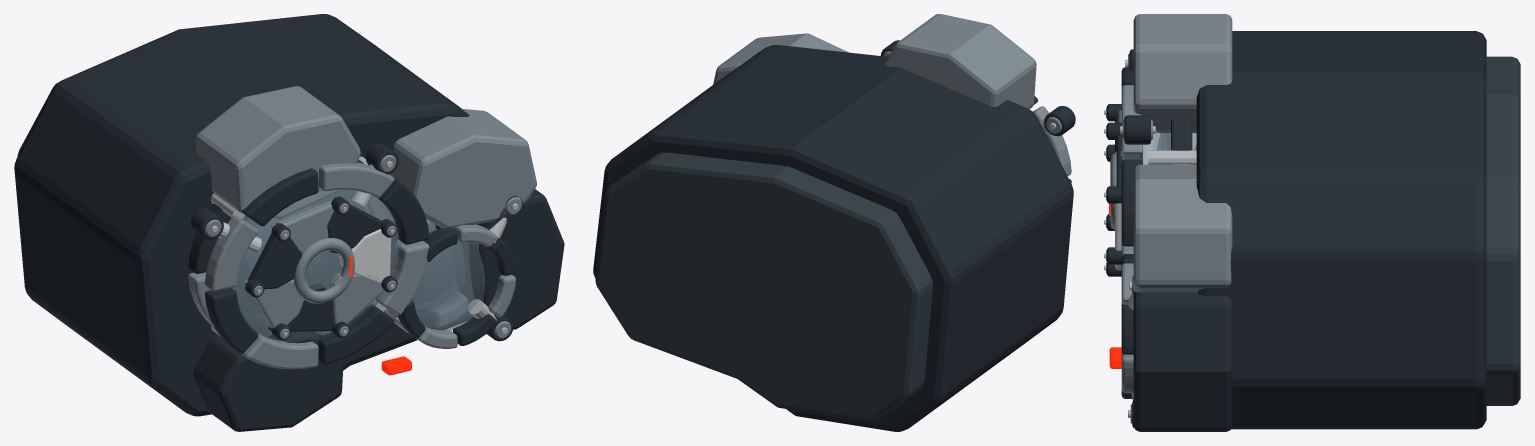
File: orbit-experience-ultra.glb
3 views of the same model, side by side, from view 1: azimuth 30°, elevation 25°; view 2: azimuth 150°, elevation 25°; view 3: azimuth 270°, elevation 25° (orthographic). The views are drawn at different scales.
Visible parts, largest first — view 1: Experience_DeepOpticalBody, Experience_HoodVane_PRIMARY_TOP, Experience_HoodVane_SECONDARY_TOP, Experience_HoodVane_PRIMARY_BOTTOM, Experience_HoodVane_SECONDARY_OUTER, Experience_OpticalVolume, Experience_SECONDARY_OpticalVolume_0, Experience_PRIMARY_FrameSector_0_03, Experience_PRIMARY_FrameSector_0_06, Experience_PRIMARY_FrameSector_0_07, Experience_PRIMARY_FrameSector_0_02, Experience_PRIMARY_FrameSector_0_04 (+24 smaller); view 2: Experience_DeepOpticalBody, Experience_RearOpticalBody, Experience_HoodVane_PRIMARY_TOP, Experience_HoodVane_SECONDARY_TOP, Experience_PRIMARY_FrameSector_0_03, Experience_ActuatorPivot_00; view 3: Experience_DeepOpticalBody, Experience_HoodVane_SECONDARY_OUTER, Experience_RearOpticalBody, Experience_HoodVane_SECONDARY_TOP, Experience_HoodVane_PRIMARY_TOP, Experience_PRIMARY_FrameSector_0_00, Experience_PRIMARY_FrameSector_0_01, Experience_ActuatorPivot_01, Experience_PRIMARY_BarrelRail_0, Experience_PRIMARY_FrameSector_1_01, Experience_SECONDARY_FrameSector_0_00, Experience_SECONDARY_FrameSector_0_07 (+2 smaller).
Part boxes in pixels (<box>): Experience_DeepOpticalBody: <box>14,14,473,416</box>; Experience_HoodVane_PRIMARY_TOP: <box>195,86,360,219</box>; Experience_HoodVane_SECONDARY_TOP: <box>389,109,536,228</box>; Experience_HoodVane_PRIMARY_BOTTOM: <box>193,330,343,431</box>; Experience_HoodVane_SECONDARY_OUTER: <box>453,189,564,329</box>; Experience_OpticalVolume: <box>232,189,402,341</box>; Experience_SECONDARY_OpticalVolume_0: <box>412,240,484,330</box>; Experience_PRIMARY_FrameSector_0_03: <box>205,215,258,291</box>; Experience_PRIMARY_FrameSector_0_06: <box>318,304,394,364</box>; Experience_PRIMARY_FrameSector_0_07: <box>375,241,429,315</box>; Experience_PRIMARY_FrameSector_0_02: <box>241,168,318,226</box>; Experience_PRIMARY_FrameSector_0_04: <box>205,288,258,353</box>; Experience_DeepOpticalBody: <box>593,45,1073,431</box>; Experience_RearOpticalBody: <box>595,152,932,422</box>; Experience_HoodVane_PRIMARY_TOP: <box>884,14,1036,109</box>; Experience_HoodVane_SECONDARY_TOP: <box>713,33,848,84</box>; Experience_PRIMARY_FrameSector_0_03: <box>1033,106,1071,176</box>; Experience_ActuatorPivot_00: <box>1044,106,1075,136</box>; Experience_DeepOpticalBody: <box>1196,31,1486,429</box>; Experience_HoodVane_SECONDARY_OUTER: <box>1133,292,1232,431</box>; Experience_RearOpticalBody: <box>1486,56,1520,405</box>; Experience_HoodVane_SECONDARY_TOP: <box>1133,164,1232,292</box>; Experience_HoodVane_PRIMARY_TOP: <box>1133,14,1232,132</box>; Experience_PRIMARY_FrameSector_0_00: <box>1121,159,1142,246</box>; Experience_PRIMARY_FrameSector_0_01: <box>1121,85,1142,160</box>; Experience_ActuatorPivot_01: <box>1124,115,1150,144</box>; Experience_PRIMARY_BarrelRail_0: <box>1148,150,1196,164</box>; Experience_PRIMARY_FrameSector_1_01: <box>1171,118,1192,150</box>; Experience_SECONDARY_FrameSector_0_00: <box>1121,305,1133,354</box>; Experience_SECONDARY_FrameSector_0_07: <box>1121,354,1133,392</box>.
Size of the model in its own units: 7.65 by 5.66 by 6.25.
